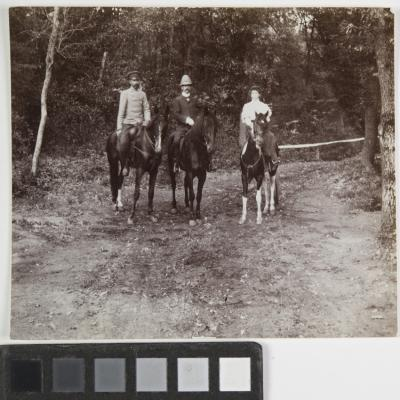photos_negatives: (8, 11, 400, 334)
